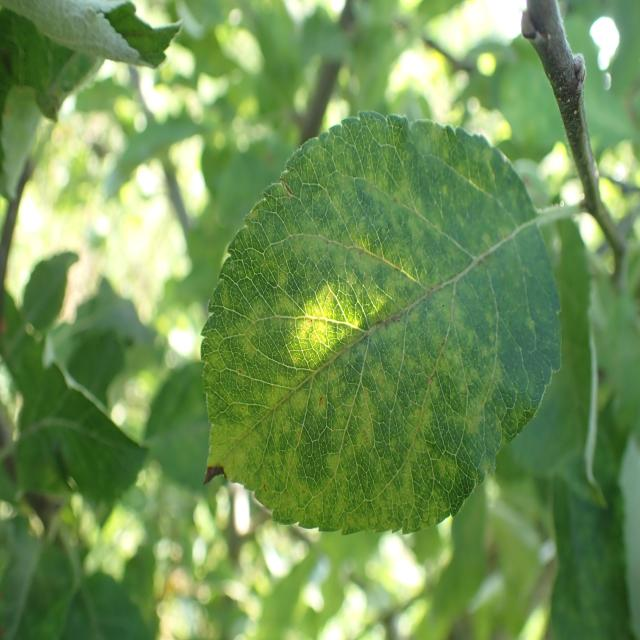scab: (188, 112, 542, 514)
